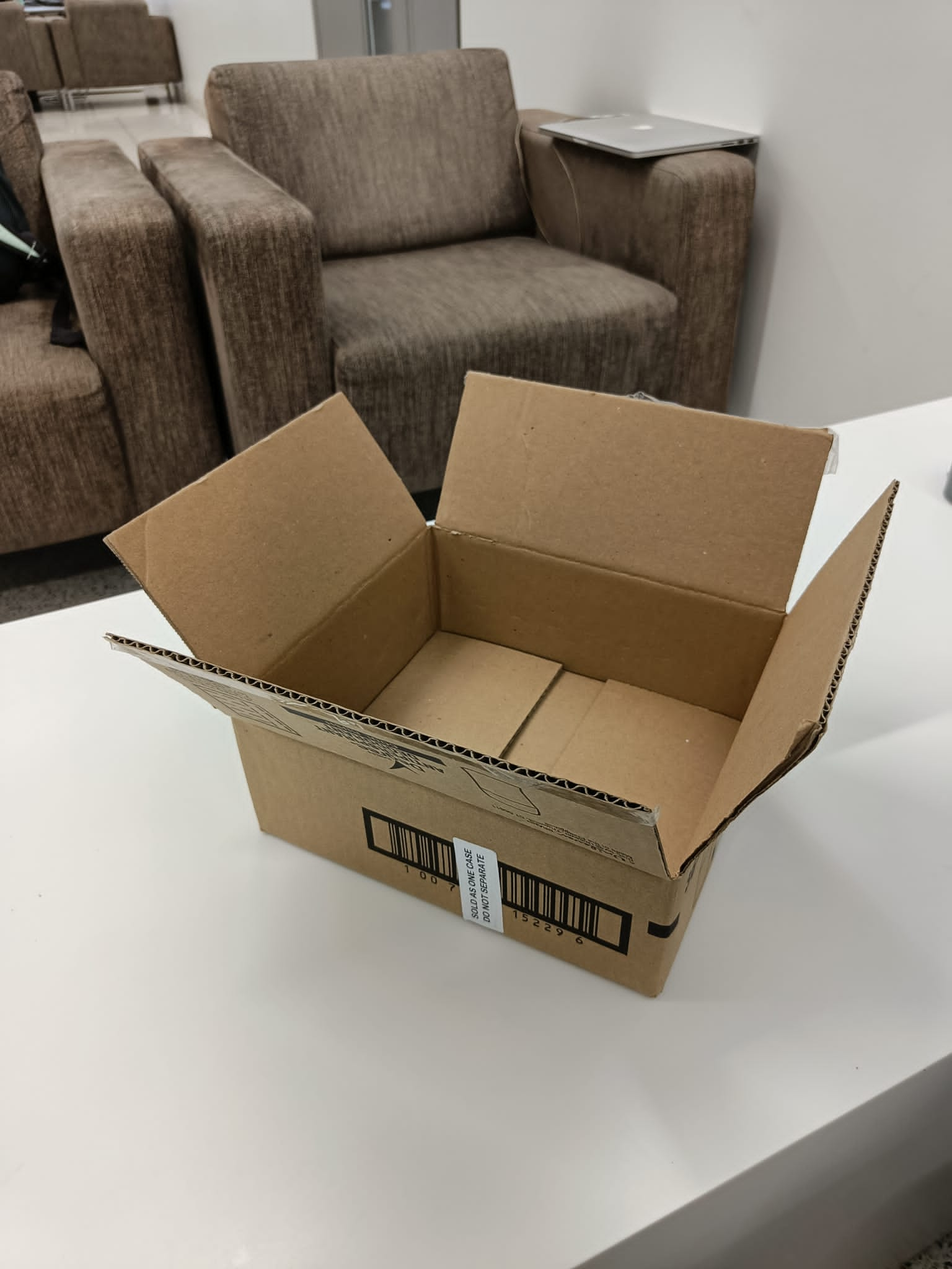box: (103, 367, 901, 998)
crushed: (105, 367, 899, 880)
